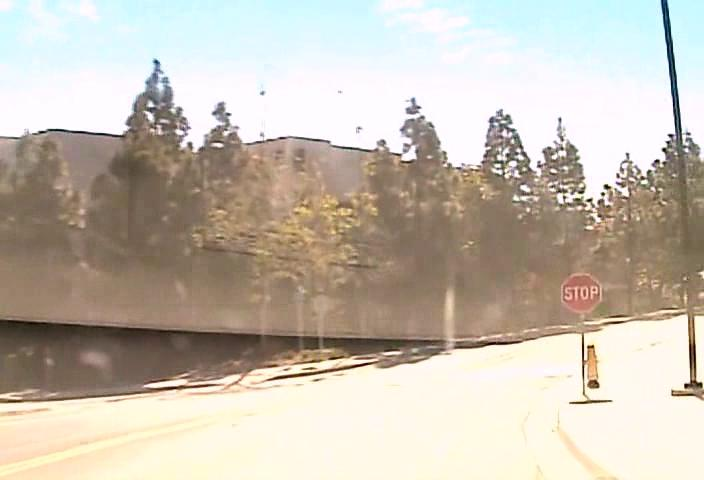stop: (560, 272, 603, 313)
